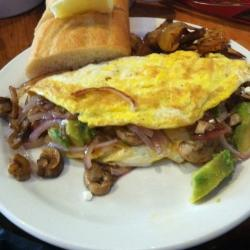bread: (27, 2, 134, 73)
omelette: (17, 54, 246, 159)
